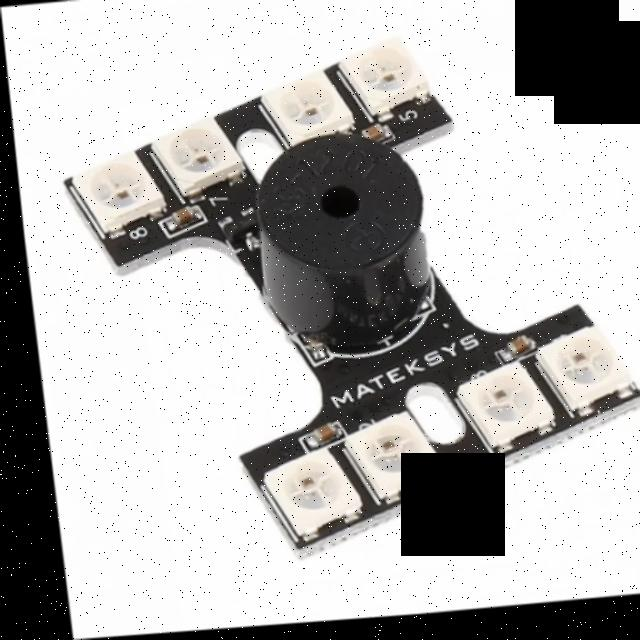4439: (211, 205, 259, 254)
LED: (527, 315, 630, 428), (332, 399, 431, 512), (239, 449, 349, 540), (333, 27, 433, 120), (244, 62, 347, 147), (451, 360, 541, 456), (141, 114, 240, 193), (62, 151, 159, 224)
buzzer: (247, 130, 442, 352)
capacitor 1V5: (284, 422, 336, 454), (163, 200, 198, 235), (356, 118, 390, 153), (490, 333, 525, 364)
